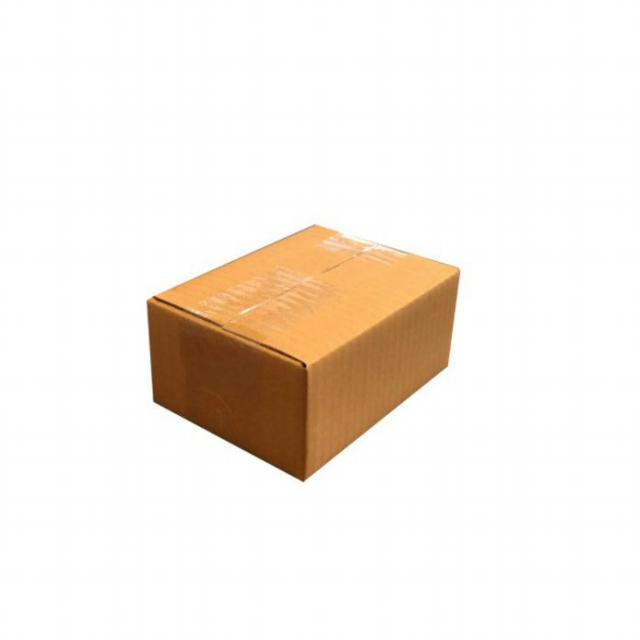box: (133, 209, 484, 493)
